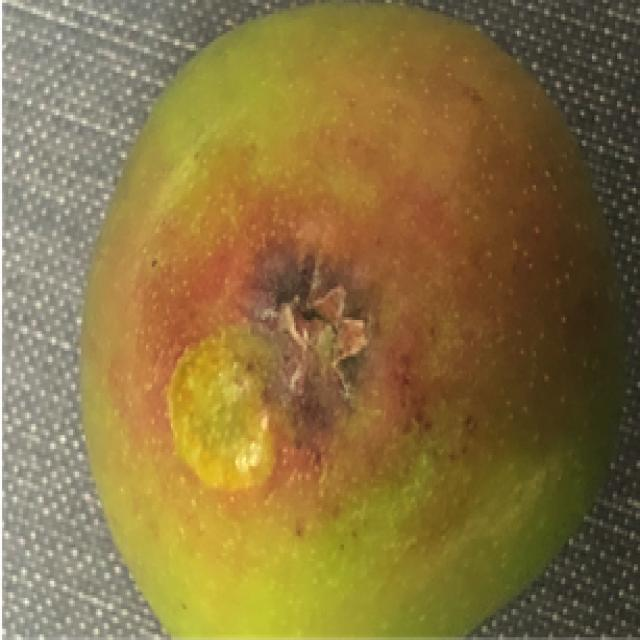Gymnosporangium_Rusts: (75, 0, 625, 637)
